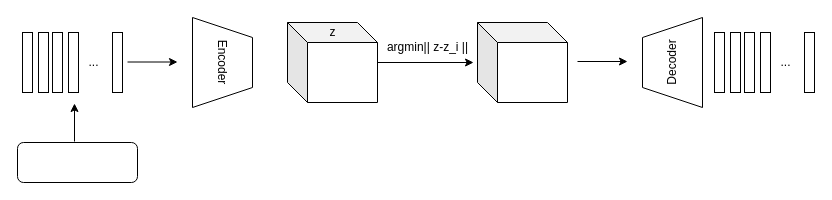
This 832x200 diagram has some shape labels left out. Here are the shapes that lost their labels. From the top down, the centre of each, then its label:
At point 522,62: "z q".
At point 77,162: "8 x Transformers".
